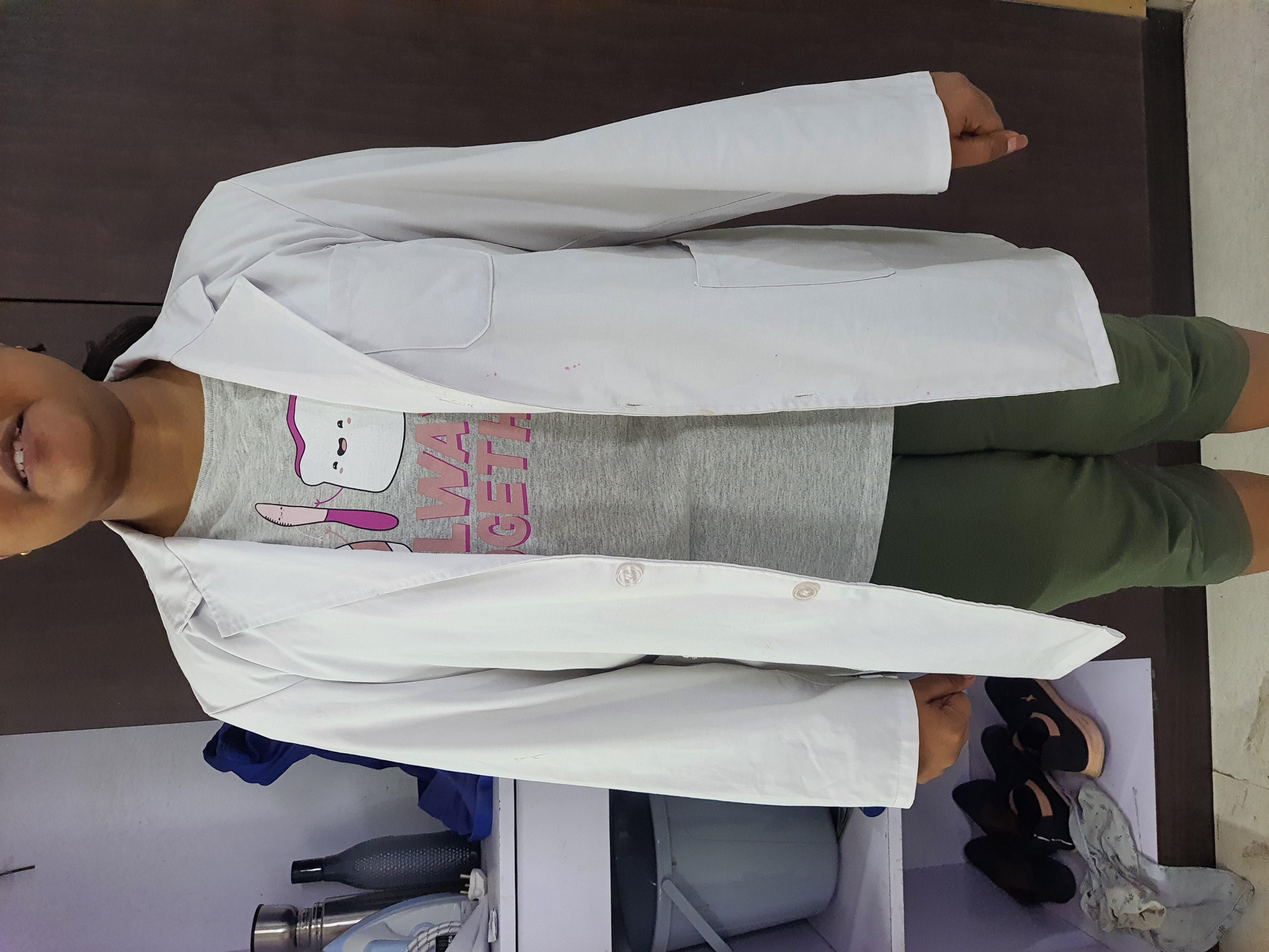Lab_coat: (714, 80, 1172, 839)
